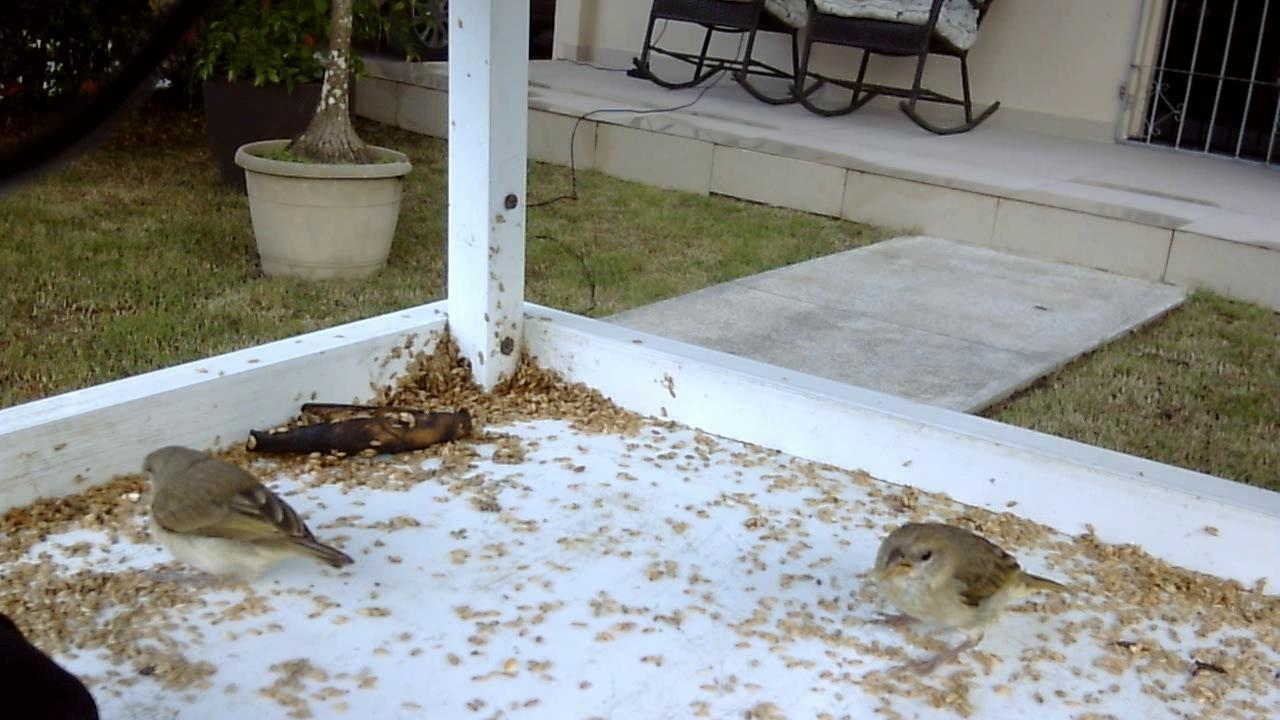canario_do_amazonas: (130, 436, 353, 604), (860, 512, 1073, 675)
